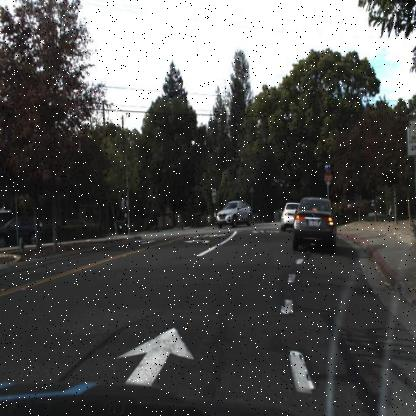car: (291, 197, 335, 250), (0, 215, 45, 252), (215, 200, 255, 227), (281, 201, 306, 229)
